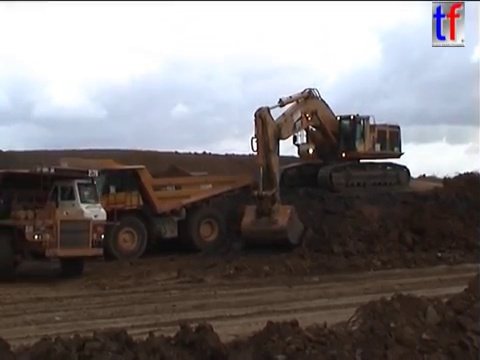excavator: (235, 86, 413, 249)
truck: (46, 156, 254, 262), (1, 163, 110, 281)
